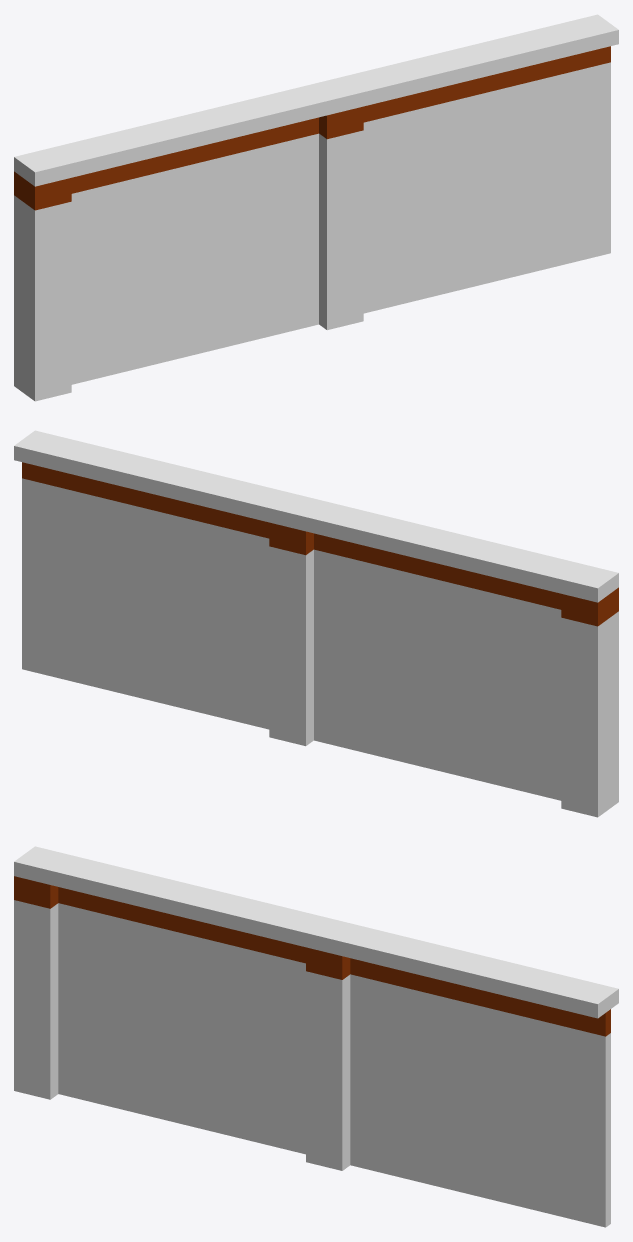
The model's file is inside_classroom_lantai_3.obj.
3 views of the same model, one above another, from view 1: azimuth 30°, elevation 25°; view 2: azimuth 150°, elevation 25°; view 3: azimuth 330°, elevation 25° (orthographic).
Size of the model in its own units: 12.8 by 4.8 by 0.8.
Materials: 1 (1 with a texture image).
